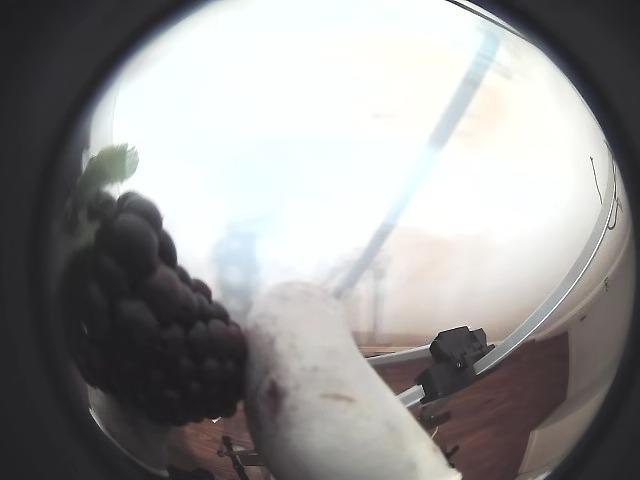berry: (59, 144, 243, 425)
gripper: (246, 282, 459, 479), (90, 389, 169, 475)
lense: (0, 0, 205, 479), (471, 0, 639, 479)
